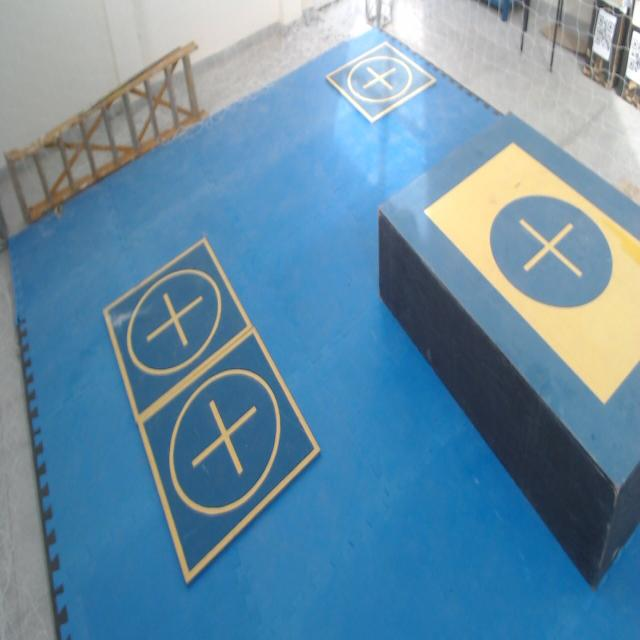base_inicio: (424, 139, 640, 407)
base_pouso: (139, 324, 320, 583), (102, 236, 253, 427), (325, 40, 437, 124)
